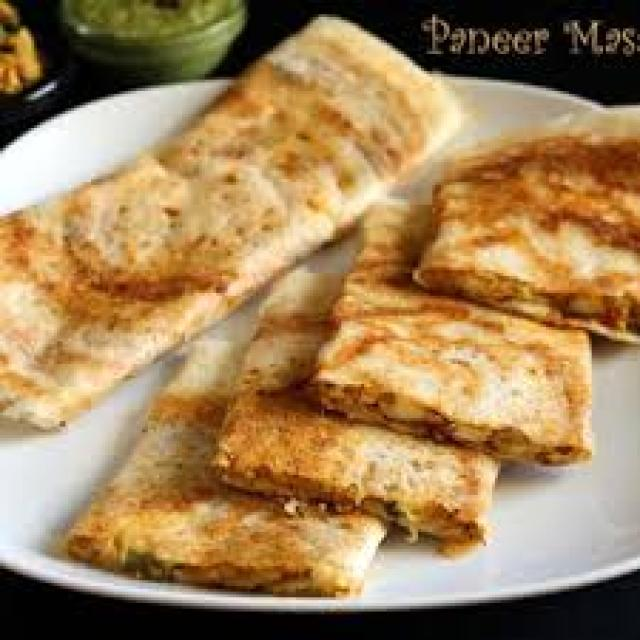DOSA: (0, 11, 467, 435)
